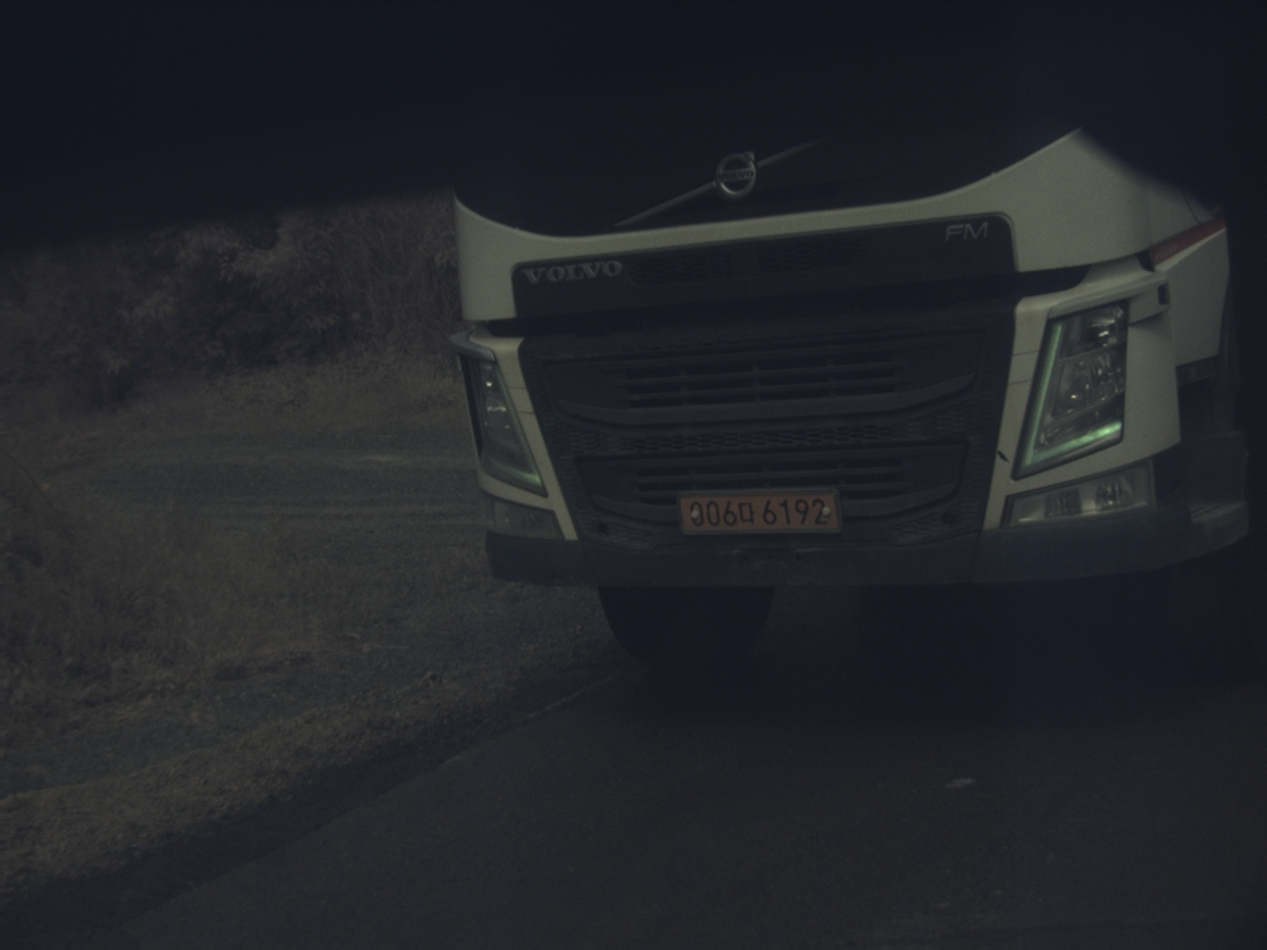license_plate: (681, 494, 839, 533)
truck: (453, 126, 1245, 662)
